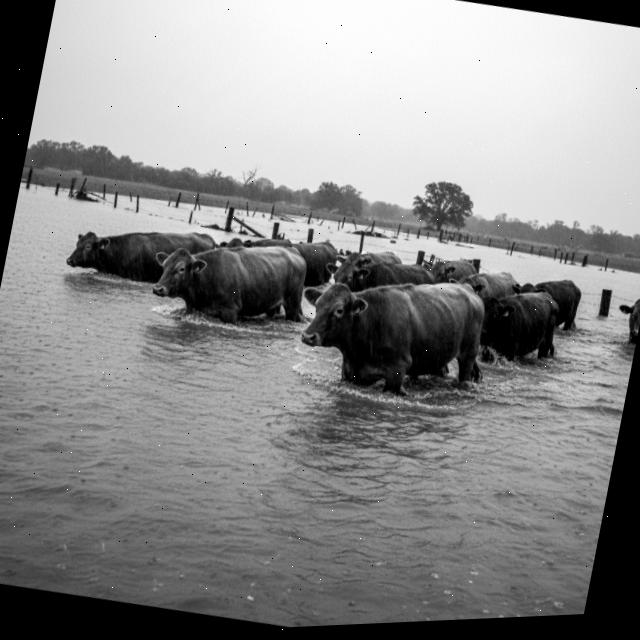cow: (270, 252, 508, 422), (139, 218, 319, 352), (48, 201, 226, 312), (460, 278, 577, 378), (318, 246, 442, 311), (500, 266, 598, 347), (266, 229, 343, 297), (443, 257, 533, 313), (216, 224, 298, 272), (418, 249, 486, 294), (336, 243, 412, 283), (601, 285, 640, 357)
